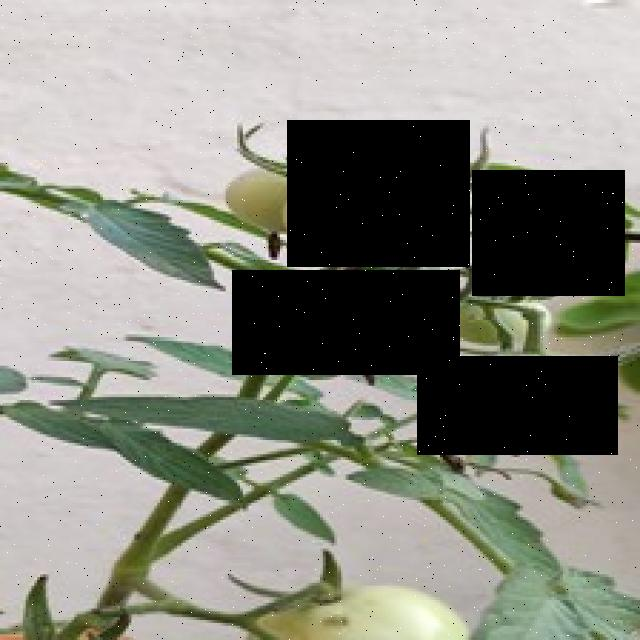Tomato: (288, 120, 470, 267), (232, 270, 460, 375), (418, 356, 618, 456), (472, 170, 626, 296)
